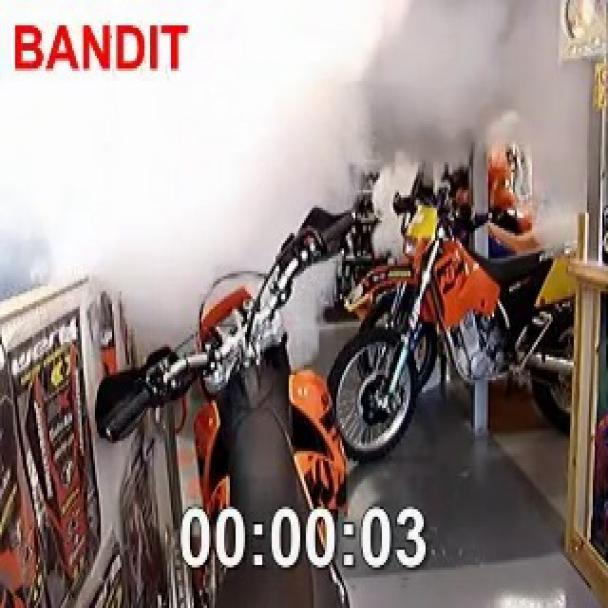smoke: (0, 0, 606, 421)
